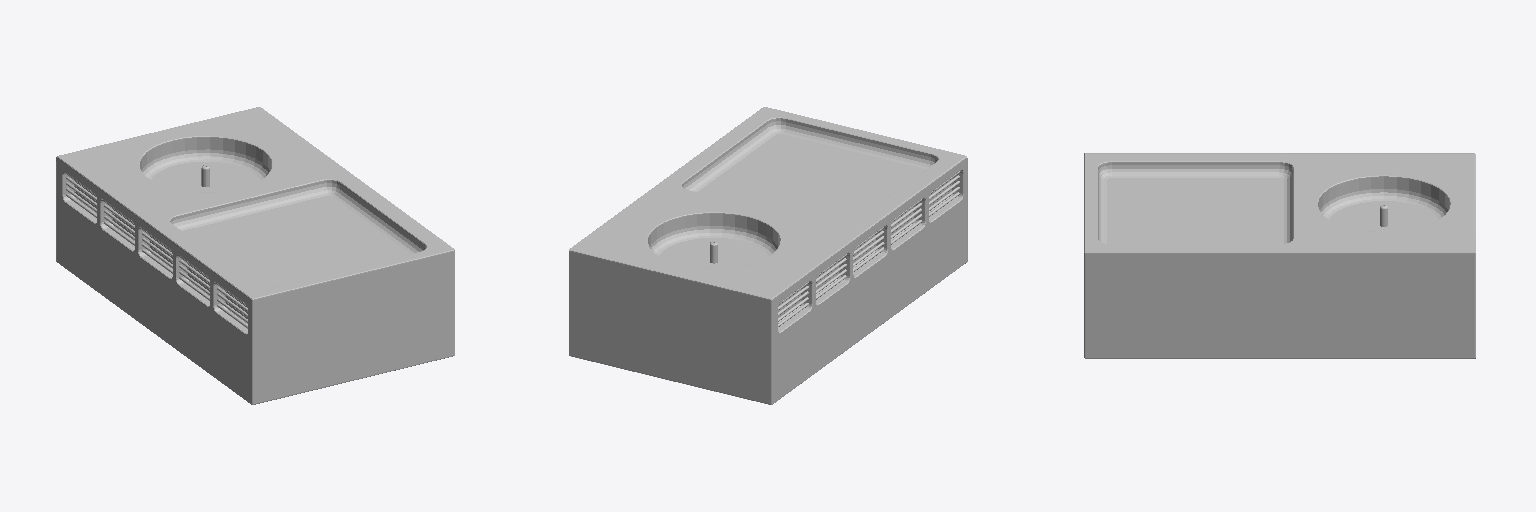
Rendered from floor1.obj.
3 renders of one model, left to right at view 1: azimuth 30°, elevation 25°; view 2: azimuth 150°, elevation 25°; view 3: azimuth 270°, elevation 25°, orthographic.
Visible parts, largest first — view 1: Cube_Cube.005; view 2: Cube_Cube.005; view 3: Cube_Cube.005.
Part boxes in pixels (x1,y1,x2,y2): Cube_Cube.005: (56,107,454,404); Cube_Cube.005: (569,107,967,404); Cube_Cube.005: (1084,153,1475,358).
Size of the model in its own units: 12 by 6 by 20.